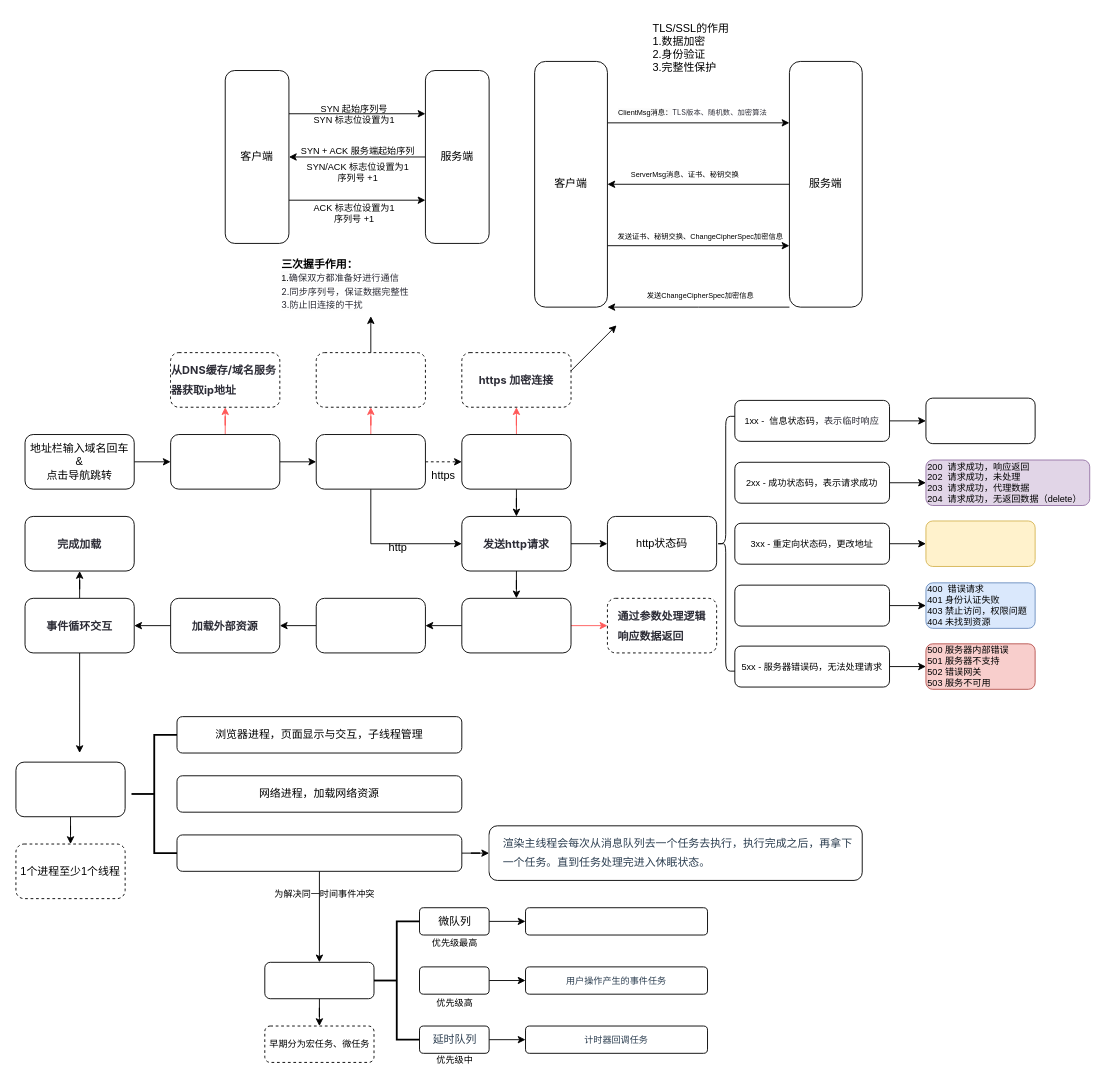
This 1106x1088 diagram has some shape labels left out. Each missing label, with the centre of its shape:
100 继续处理 101 切换协议: (980,420)
301/308 永久重定向 302/303/307 临时重定向: (980,543)
4xx - 客户端错误码，无法完成请求: (812,605)
DNS 解析: (225,461)
Promise.then ，MutationObserver: (616,921)
SSL/TLS连接: (516,461)
TCP连接: (370,461)
三次握手: (370,379)
交互队列: (454,980)
服务端处理请求: (516,625)
浏览器渲染页面: (370,625)
浏览器进程: (70,789)
消息队列/事件循环: (319,980)
渲染进程，加载html/js/css: (319,852)
